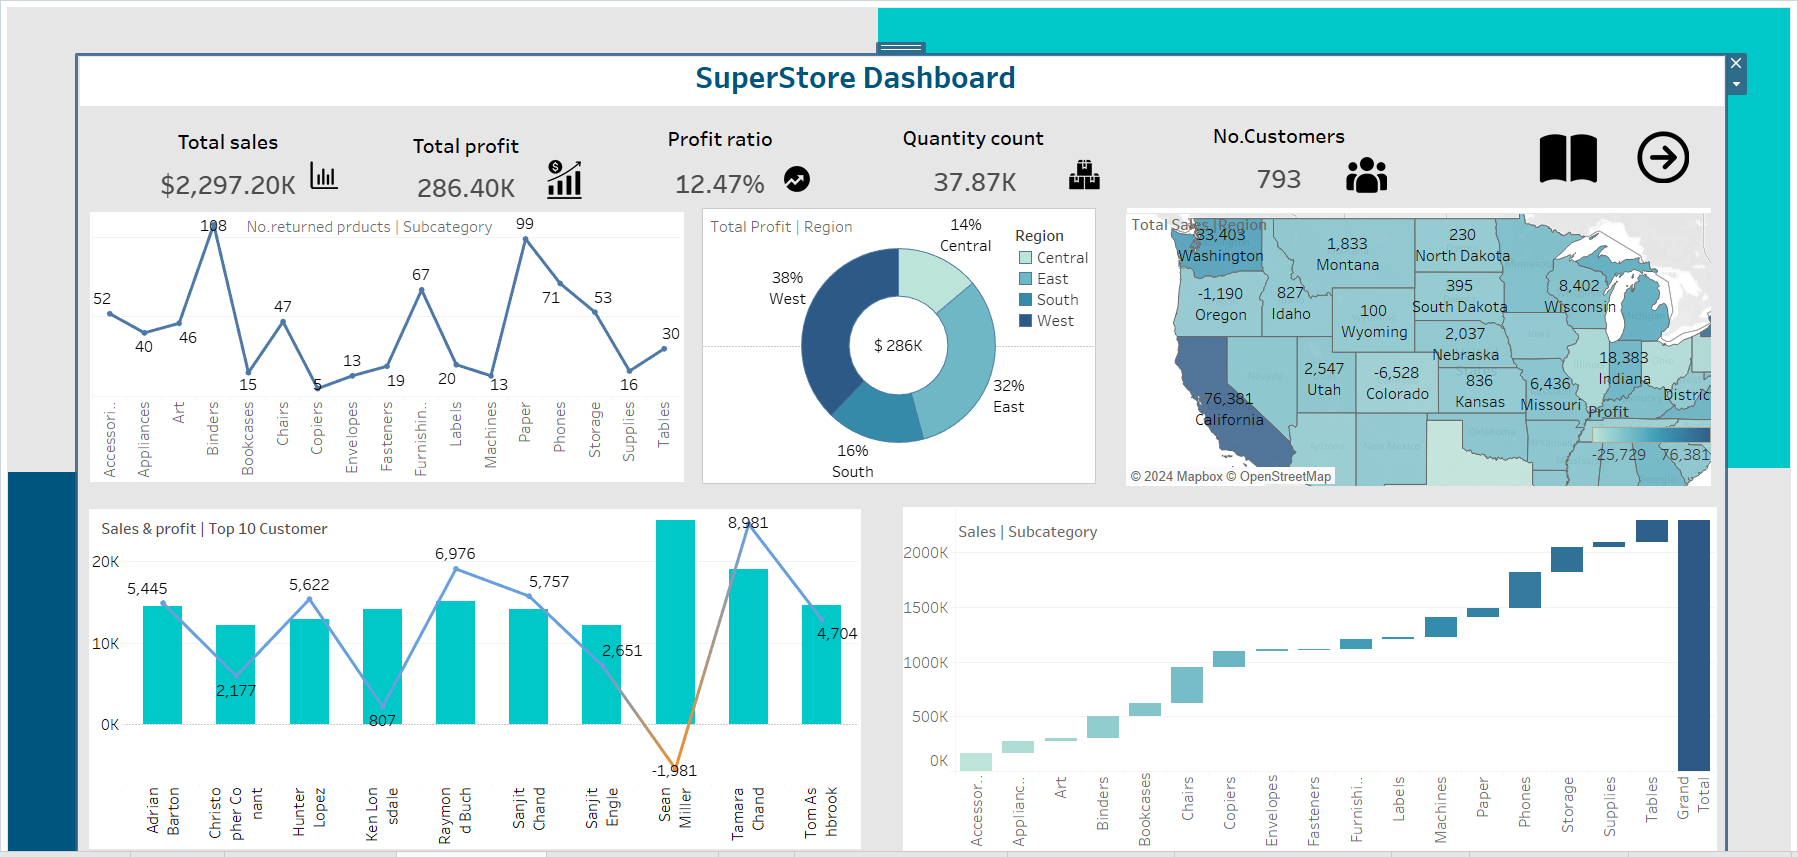

The page's visual inventory and layout, read from the dashboard file:
{"tool":"tableau","page":{"name":"main Dashboard","canvas":[1800,900],"ordinal":1},"visuals":[{"type":"text","box":[693,44,474,65]},{"type":"worksheet","title":"COUNT CUSTOMERS NO","mark":"Automatic","box":[1188,118,184,78]},{"type":"worksheet","title":"Quantity count ","mark":"Automatic","box":[871,120,211,80]},{"type":"worksheet","title":"Profit ratio","mark":"Automatic","box":[612,121,218,83]},{"type":"worksheet","title":"Total sales","mark":"Automatic","box":[149,124,224,94]},{"type":"worksheet","title":"Total profit","mark":"Automatic","box":[377,128,180,77]},{"type":"dashboard-object","box":[1487,129,164,60]},{"type":"dashboard-object","box":[1582,132,164,52]},{"type":"image","param":"C:/Users/fadys/Downloads/customer.png","box":[1347,155,41,44]},{"type":"image","param":"C:/Users/fadys/Downloads/boxes.png","box":[1067,156,36,37]},{"type":"image","param":"C:/Users/fadys/Downloads/increasing.png","box":[545,160,40,41]},{"type":"image","param":"E:/bi training (iti)/diwnloads/stats.png","box":[311,162,58,28]},{"type":"image","param":"C:/Users/fadys/Downloads/funds.png","box":[782,164,45,31]},{"type":"worksheet","title":"Donut chart ","mark":"Pie","rows":["Calculation_2074752104532172822","Calculation_2074752104532172822"],"box":[703,209,394,276]},{"type":"text","box":[1129,210,143,30]},{"type":"text","box":[244,212,253,30]},{"type":"text","box":[708,212,150,30]},{"type":"worksheet","title":"COUNT OF RETURNS ","mark":"Line","rows":["Returns_C236932F177C4FA192078EA23AFD5FD4"],"cols":["Sub-Category"],"box":[93,214,589,266]},{"type":"worksheet","title":"map","mark":"Multipolygon","box":[1126,214,587,274]},{"type":"legend","title":"Donut chart ","param":"[federated.0jyh3zo0st8kwd180pcac1sd8817].[none:Region:nk]","box":[1016,226,82,124]},{"type":"legend","title":"map","param":"[federated.0jyh3zo0st8kwd180pcac1sd8817].[sum:Profit:qk]","box":[1589,402,127,72]},{"type":"worksheet","title":"waterfall chart","mark":"GanttBar","rows":["Sales"],"cols":["Sub-Category"],"box":[904,508,812,341]},{"type":"worksheet","title":"sales vs profit charts ","mark":"Line","rows":["Sales","Profit"],"cols":["Customer Name"],"box":[91,511,768,337]},{"type":"text","box":[99,514,230,30]},{"type":"text","box":[956,517,146,30]}]}

Visuals, with their boxes on the page's 1800x900 design canvas (x1, y1, x2, y2). These are canvas units, not pixel positions in the 1798x857 screenshot, which may show the page scaled, cropped or inside an application window:
text: 693, 44, 1167, 109
"COUNT CUSTOMERS NO" worksheet: 1188, 118, 1372, 196
"Quantity count " worksheet: 871, 120, 1082, 200
"Profit ratio" worksheet: 612, 121, 830, 204
"Total sales" worksheet: 149, 124, 373, 218
"Total profit" worksheet: 377, 128, 557, 205
dashboard-object: 1487, 129, 1651, 189
dashboard-object: 1582, 132, 1746, 184
image: 1347, 155, 1388, 199
image: 1067, 156, 1103, 193
image: 545, 160, 585, 201
image: 311, 162, 369, 190
image: 782, 164, 827, 195
"Donut chart " worksheet (Pie marks): 703, 209, 1097, 485
text: 1129, 210, 1272, 240
text: 244, 212, 497, 242
text: 708, 212, 858, 242
"COUNT OF RETURNS " worksheet (Line marks): 93, 214, 682, 480
"map" worksheet (Multipolygon marks): 1126, 214, 1713, 488
"Donut chart " legend: 1016, 226, 1098, 350
"map" legend: 1589, 402, 1716, 474
"waterfall chart" worksheet (GanttBar marks): 904, 508, 1716, 849
"sales vs profit charts " worksheet (Line marks): 91, 511, 859, 848
text: 99, 514, 329, 544
text: 956, 517, 1102, 547
